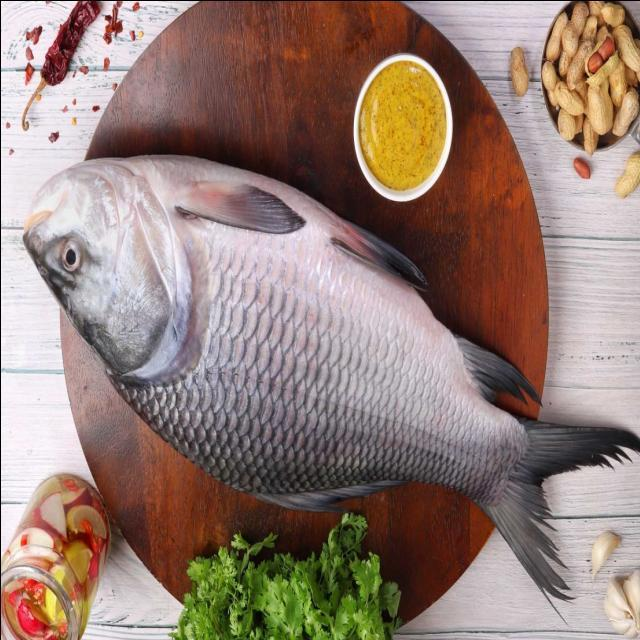fish: (22, 153, 639, 597)
